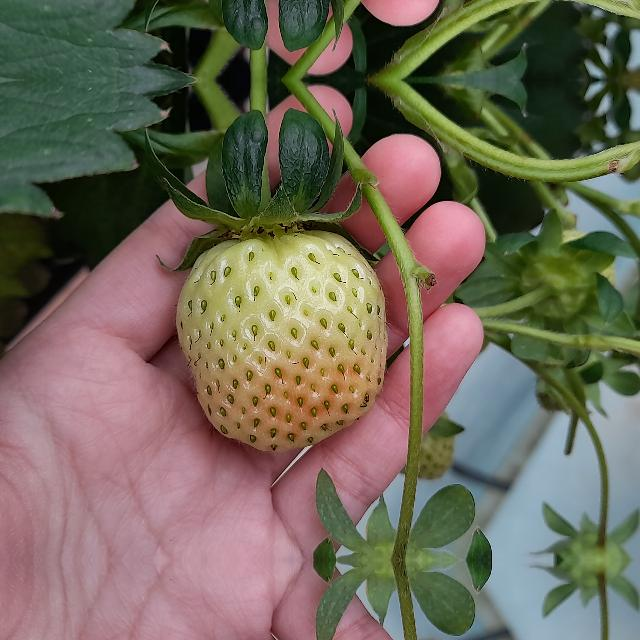Health_50: (176, 227, 388, 453)
